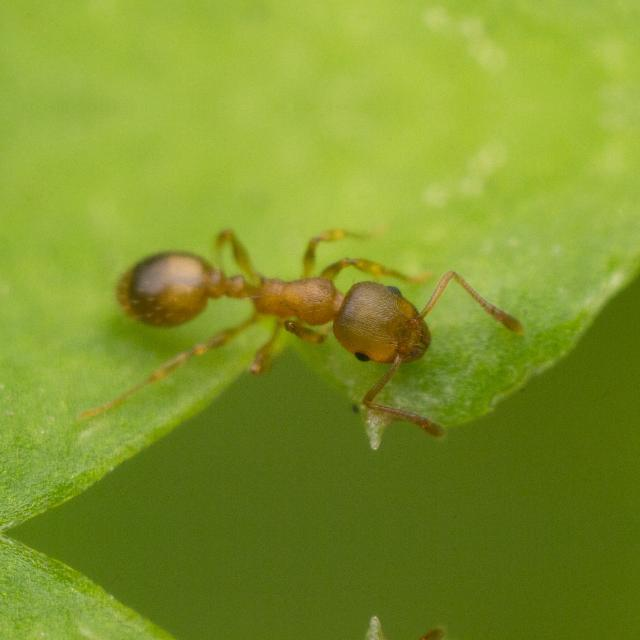Temnothorax: (78, 214, 496, 398)
